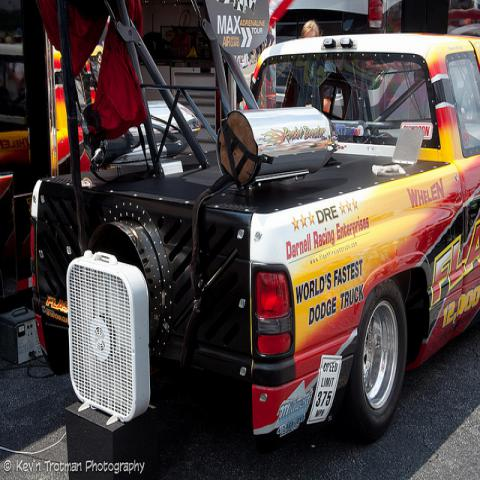truck: (22, 37, 479, 472)
